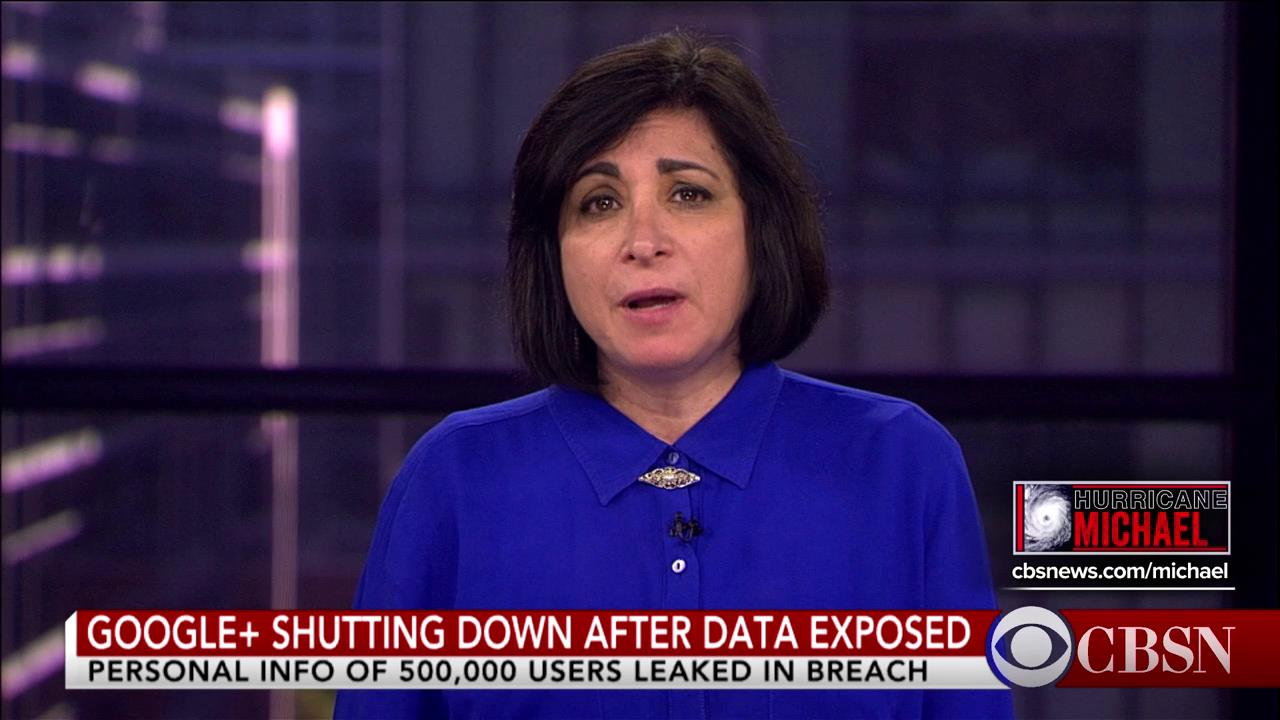CBSN: (1076, 621, 1240, 680)
GOOGLE+ SHUTTING DOWN AFTER DATA EXPOSED: (85, 608, 972, 653)
HURRICANE: (1072, 485, 1227, 509)
MICHAEL: (1072, 508, 1205, 547)
PERSONAL INFO OF 500__000 USERS LEAKED IN BREACH: (84, 655, 932, 687)
cbsnews.com/michael: (1007, 558, 1229, 583)
